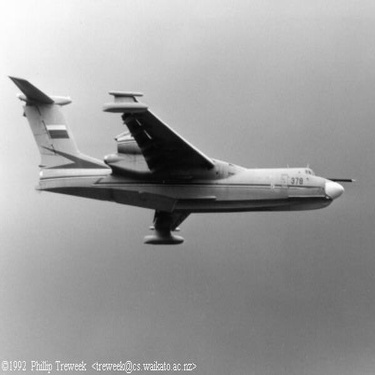airplane: (1, 47, 361, 253)
